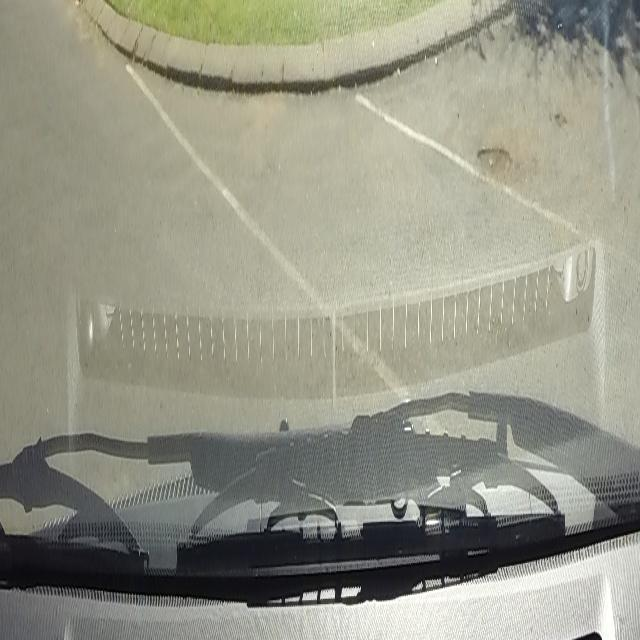pothole: (476, 138, 512, 186)
